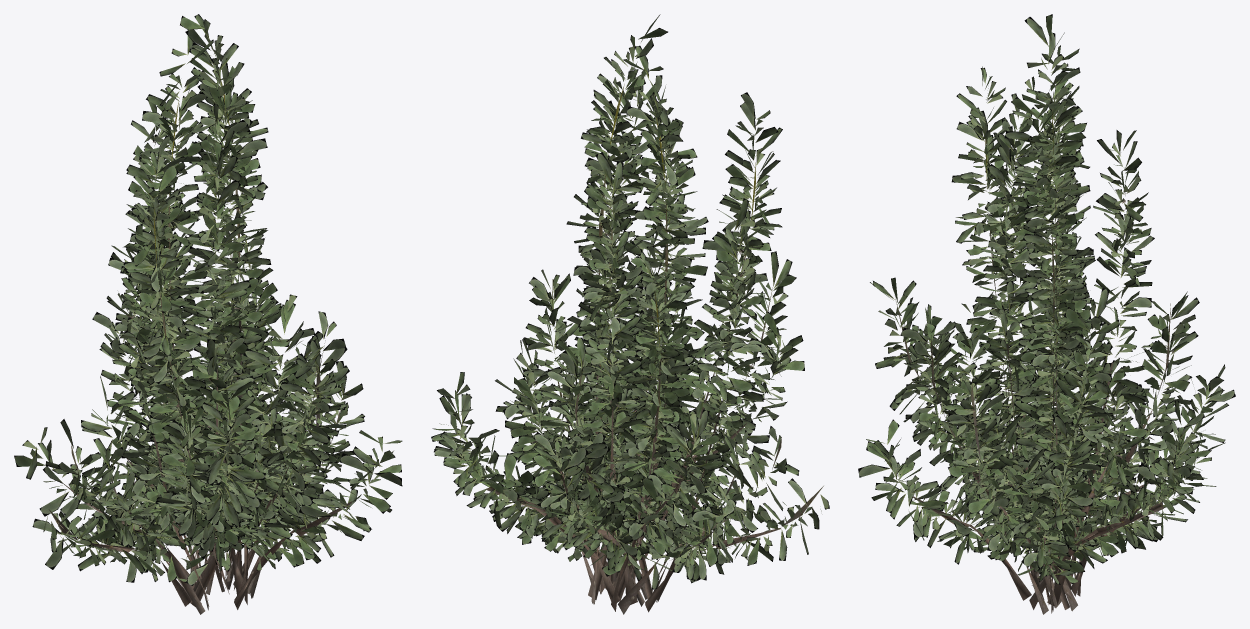
File: othonna_cerarioides.glb
3 views of the same model, side by side, from view 1: azimuth 30°, elevation 25°; view 2: azimuth 150°, elevation 25°; view 3: azimuth 270°, elevation 25° (orthographic). The views are drawn at different scales.
Parts seen in each view (by area): view 1: othonna_cerarioides_b; view 2: othonna_cerarioides_b; view 3: othonna_cerarioides_b.
Part boxes in pixels (bbox=[...]): othonna_cerarioides_b: bbox=[14, 14, 402, 614]; othonna_cerarioides_b: bbox=[431, 14, 829, 614]; othonna_cerarioides_b: bbox=[858, 14, 1235, 614].
Size of the model in its own units: 1.01 by 1.77 by 1.05.
Materials: 2 (2 with a texture image).
